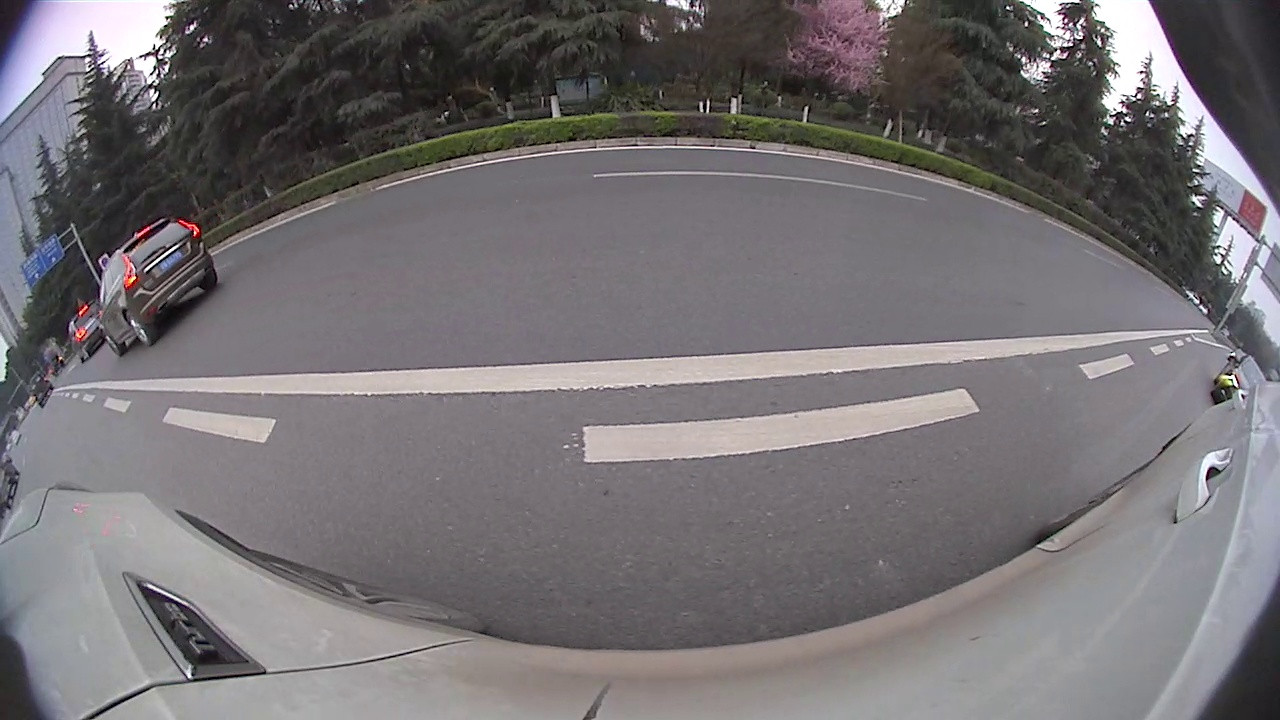car: (97, 214, 219, 358), (1209, 348, 1268, 409), (66, 300, 108, 365), (25, 372, 54, 408)
front: (103, 333, 121, 355)
rear: (125, 309, 152, 347)
